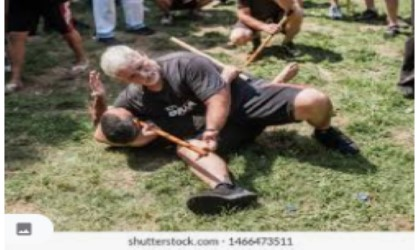baston_e: (181, 37, 222, 71), (252, 22, 287, 52), (161, 129, 196, 154)
baston_v: (166, 32, 177, 44), (198, 147, 209, 158), (242, 58, 253, 66)
